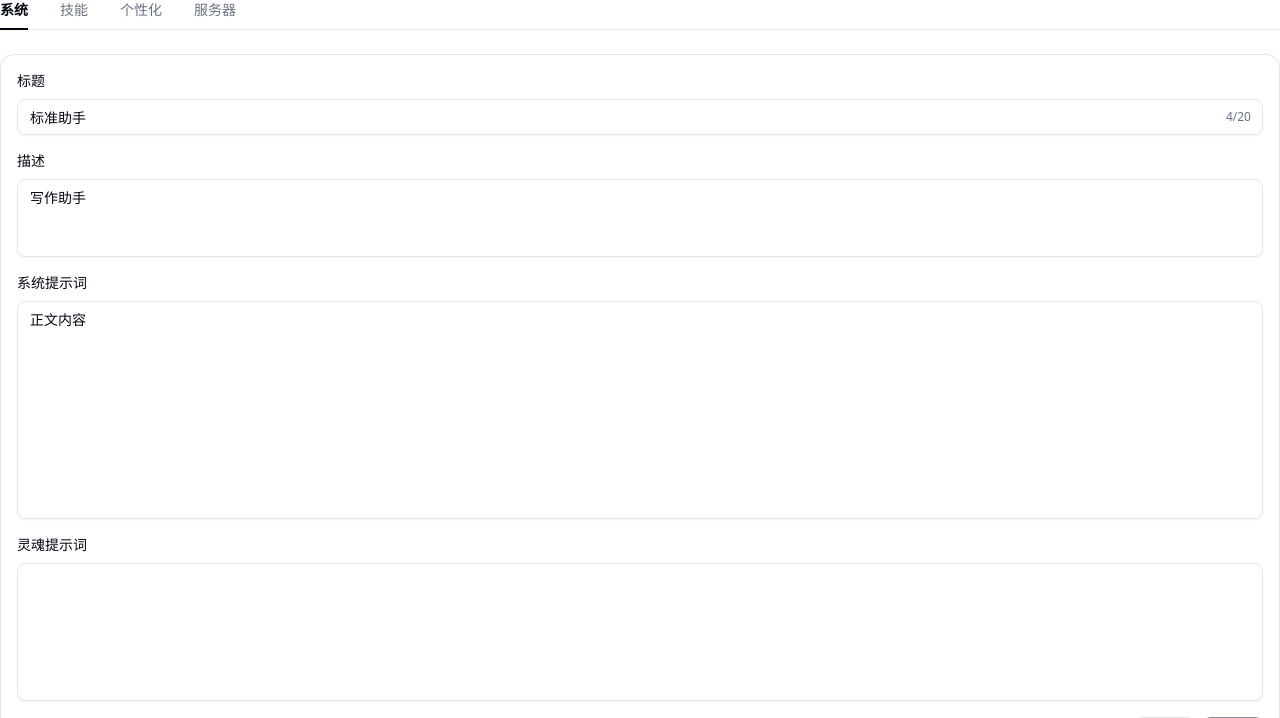
Scenario: SettingsPanel SYSTEM tab title/description 输入框 › 只编辑 title → 保存按钮可用
Replace the text in the field labelled "标题" with "测试助手": (640, 117) [17, 99, 1263, 135]
(page scrolled)
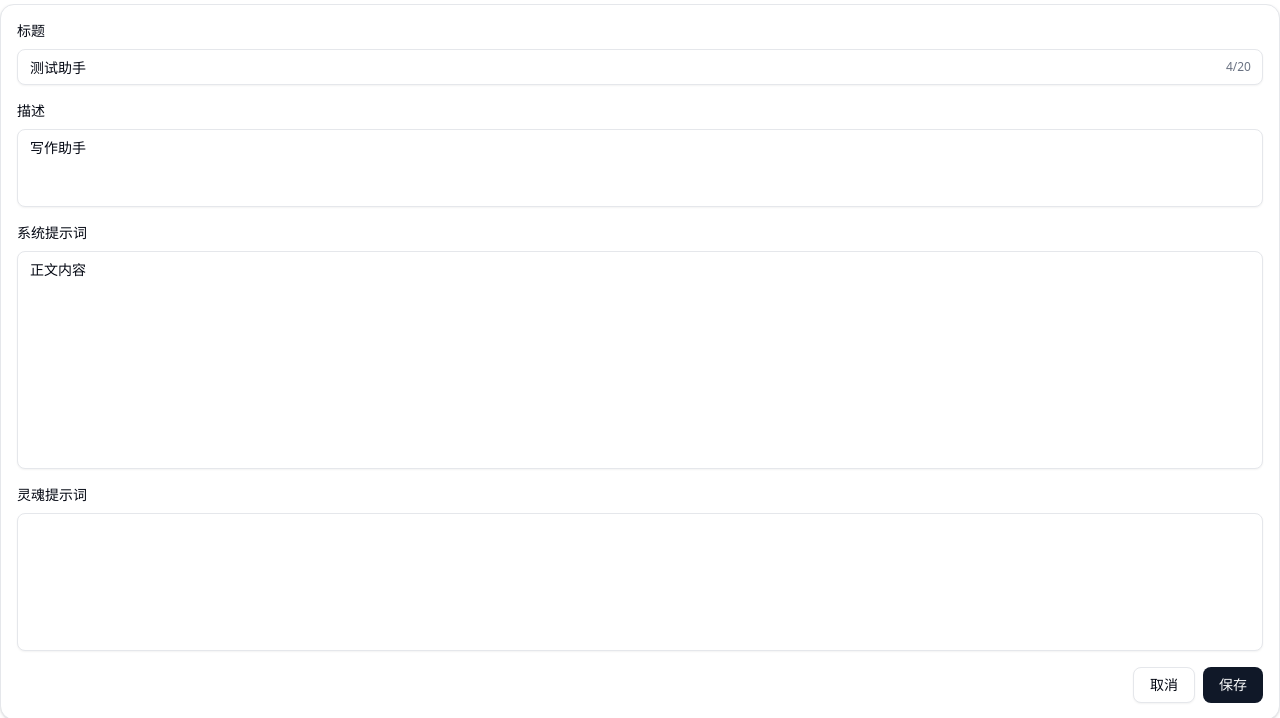
Expected: the button "保存" is enabled, [1203, 667, 1263, 703]
